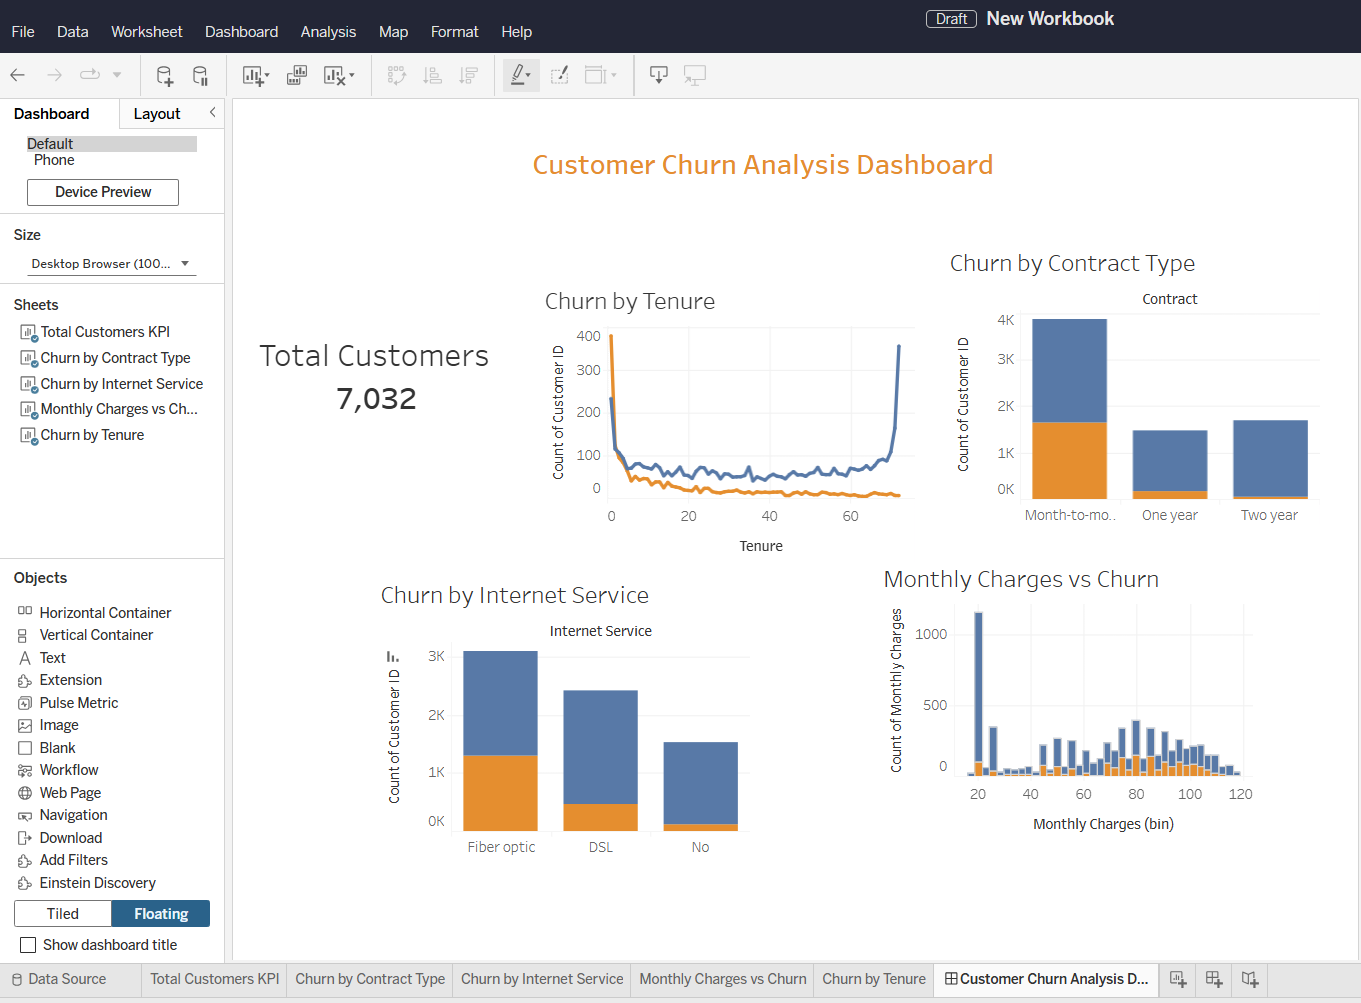

The dashboard page shown, as its layout file describes it:
{"tool":"tableau","page":{"name":"Customer Churn Analysis Dashboard","canvas":[1000,800],"ordinal":0},"visuals":[{"type":"text","box":[192,23,559,68]},{"type":"worksheet","title":"Churn by Contract Type","mark":"Automatic","rows":["customerID"],"cols":["Contract"],"box":[633,125,333,253]},{"type":"worksheet","title":"Churn by Tenure","mark":"Line","rows":["customerID"],"cols":["tenure"],"box":[273,159,333,253]},{"type":"worksheet","title":"Monthly Charges vs Churn","mark":"Automatic","rows":["MonthlyCharges"],"cols":["Monthly Charges (bin)"],"box":[574,406,333,253]},{"type":"worksheet","title":"Churn by Internet Service","mark":"Automatic","rows":["customerID"],"cols":["InternetService"],"box":[127,420,333,253]}]}

Visuals, with their boxes on the page's 1000x800 design canvas (x1, y1, x2, y2). These are canvas units, not pixel positions in the 1361x1003 screenshot, which may show the page scaled, cropped or inside an application window:
text: pyautogui.locateOnScreen(192, 23, 751, 91)
"Churn by Contract Type" worksheet: pyautogui.locateOnScreen(633, 125, 966, 378)
"Churn by Tenure" worksheet (Line marks): pyautogui.locateOnScreen(273, 159, 606, 412)
"Monthly Charges vs Churn" worksheet: pyautogui.locateOnScreen(574, 406, 907, 659)
"Churn by Internet Service" worksheet: pyautogui.locateOnScreen(127, 420, 460, 673)
